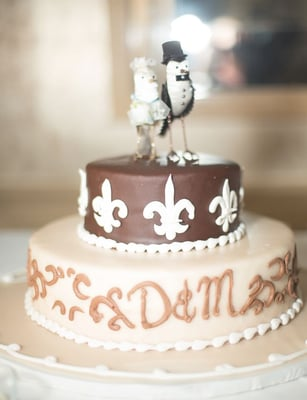sushi: (20, 128, 302, 373)
